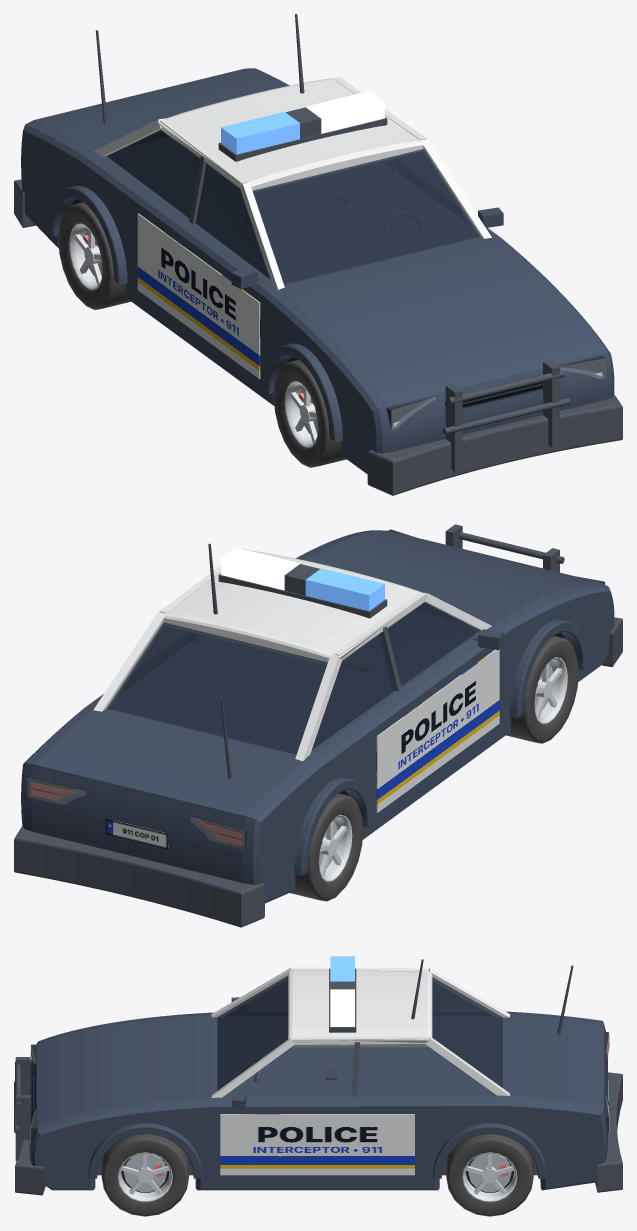
File: car_police.glb
3 renders of one model, top to bottom at view 1: azimuth 30°, elevation 25°; view 2: azimuth 150°, elevation 25°; view 3: azimuth 270°, elevation 25°, orthographic. The views are drawn at different scales.
Visible parts, largest first — view 1: PoliceLowerBody, CabinGreenhouse, chassis, SculptedRoof, PoliceFrontBumper, wheel_RR_spin, wheel_FR_spin, siren_R, siren_L, RoofLightbar, InteriorCabin, headlight_R_housing; view 2: PoliceLowerBody, CabinGreenhouse, chassis, SculptedRoof, PoliceRearBumper, wheel_FR_spin, wheel_RR_spin, siren_R, siren_L, RoofLightbar, taillight_L_housing, taillight_R_housing (+1 smaller); view 3: PoliceLowerBody, chassis, CabinGreenhouse, SculptedRoof, wheel_FL_spin, wheel_RL_spin, PoliceRearBumper, PoliceFrontBumper, siren_L, siren_R, RoofLightbar.
Boxes of the visible parts, x1=… form: PoliceLowerBody: x1=21, y1=68, x2=614, y2=474; CabinGreenhouse: x1=93, y1=75, x2=491, y2=289; chassis: x1=48, y1=14, x2=570, y2=471; SculptedRoof: x1=157, y1=77, x2=425, y2=192; PoliceFrontBumper: x1=367, y1=394, x2=622, y2=495; wheel_RR_spin: x1=58, y1=202, x2=130, y2=309; wheel_FR_spin: x1=273, y1=359, x2=346, y2=467; siren_R: x1=221, y1=111, x2=299, y2=154; siren_L: x1=306, y1=91, x2=384, y2=133; RoofLightbar: x1=218, y1=107, x2=387, y2=161; InteriorCabin: x1=245, y1=188, x2=424, y2=236; headlight_R_housing: x1=386, y1=397, x2=435, y2=429; PoliceLowerBody: x1=21, y1=530, x2=614, y2=903; CabinGreenhouse: x1=93, y1=548, x2=491, y2=761; chassis: x1=105, y1=524, x2=588, y2=875; SculptedRoof: x1=159, y1=550, x2=421, y2=664; PoliceRearBumper: x1=14, y1=826, x2=264, y2=927; wheel_FR_spin: x1=506, y1=635, x2=578, y2=743; wheel_RR_spin: x1=290, y1=793, x2=363, y2=901; siren_R: x1=305, y1=568, x2=384, y2=610; siren_L: x1=221, y1=547, x2=299, y2=590; RoofLightbar: x1=218, y1=564, x2=387, y2=618; taillight_L_housing: x1=27, y1=777, x2=84, y2=804; taillight_R_housing: x1=191, y1=817, x2=247, y2=849; PoliceLowerBody: x1=29, y1=1011, x2=607, y2=1190; chassis: x1=14, y1=959, x2=608, y2=1178; CabinGreenhouse: x1=211, y1=967, x2=510, y2=1097; SculptedRoof: x1=288, y1=969, x2=432, y2=1047; wheel_FL_spin: x1=101, y1=1134, x2=188, y2=1216; wheel_RL_spin: x1=446, y1=1134, x2=533, y2=1216; PoliceRearBumper: x1=595, y1=1072, x2=622, y2=1192; PoliceFrontBumper: x1=15, y1=1140, x2=45, y2=1195; siren_L: x1=330, y1=989, x2=354, y2=1026; siren_R: x1=330, y1=956, x2=354, y2=981; RoofLightbar: x1=329, y1=968, x2=356, y2=1032.
Size of the model in its own units: 1.97 by 1.99 by 4.88.
Materials: 20 (3 with a texture image).
